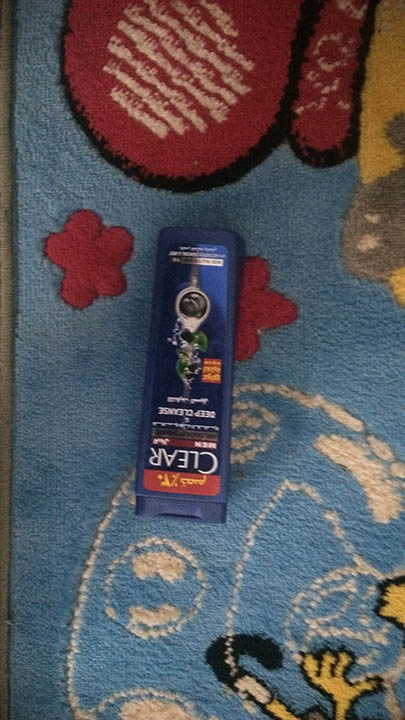Shampoo-Clear 4.7$: (136, 220, 239, 523)
